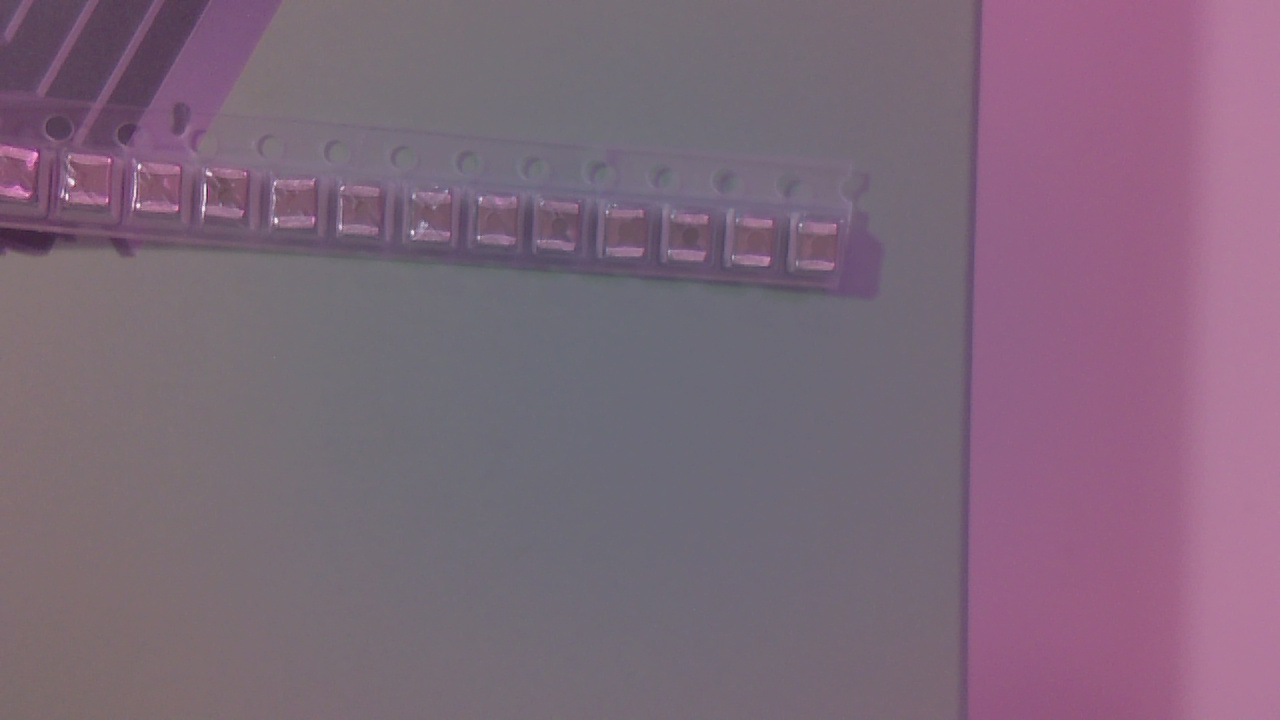Condensator: (136, 163, 187, 222), (272, 180, 325, 236), (480, 197, 528, 257), (209, 170, 257, 229), (416, 192, 461, 250), (542, 200, 587, 256), (605, 211, 652, 264), (70, 157, 115, 212), (674, 215, 716, 271), (801, 226, 845, 277), (6, 151, 46, 207), (346, 186, 389, 238), (739, 221, 779, 274)
